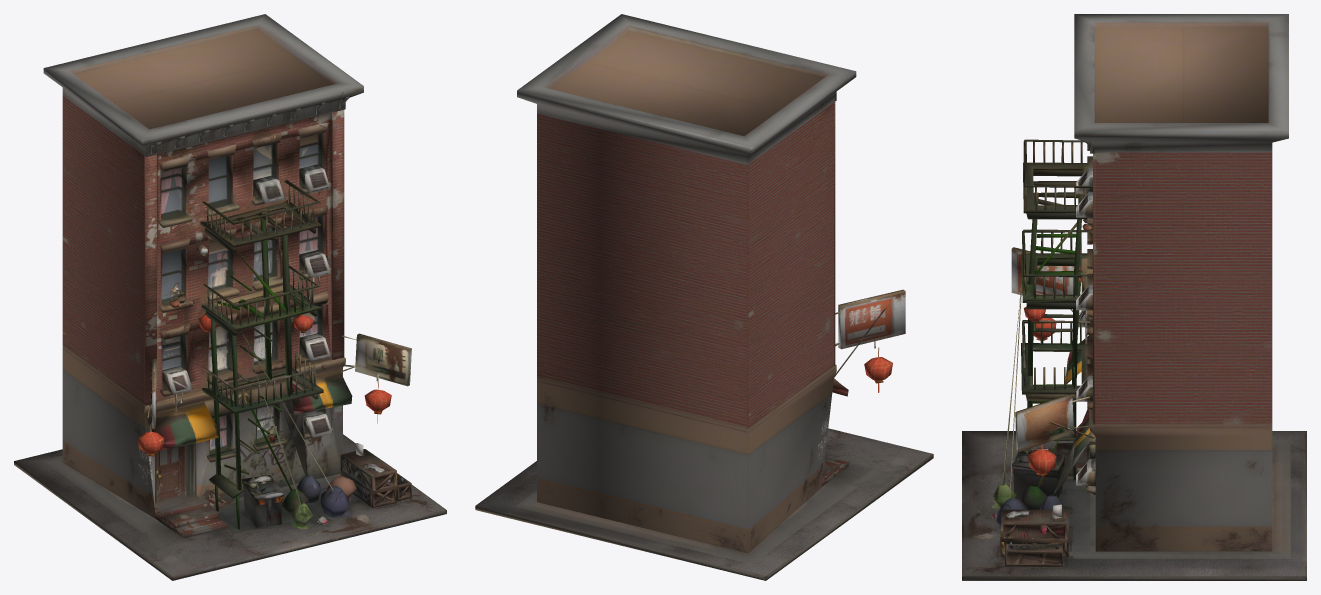
Rendered from 019e4a12-2adf-7b2a-9dee-ead2c91cbd03.glb.
3 views of the same model, side by side, from view 1: azimuth 30°, elevation 25°; view 2: azimuth 150°, elevation 25°; view 3: azimuth 270°, elevation 25° (orthographic). The views are drawn at different scales.
Parts seen in each view (by area): view 1: tripo_node_7b378b8f-9f18-4860-9b08-c8d52ec78663; view 2: tripo_node_7b378b8f-9f18-4860-9b08-c8d52ec78663; view 3: tripo_node_7b378b8f-9f18-4860-9b08-c8d52ec78663.
Part boxes in pixels (x1,y1,x2,y2): tripo_node_7b378b8f-9f18-4860-9b08-c8d52ec78663: (14,14,446,580); tripo_node_7b378b8f-9f18-4860-9b08-c8d52ec78663: (475,14,933,580); tripo_node_7b378b8f-9f18-4860-9b08-c8d52ec78663: (962,14,1306,580).
Bounding box in the file's own units: 0.7207 × 0.998 × 0.7207.
1 material, 1 textured.
